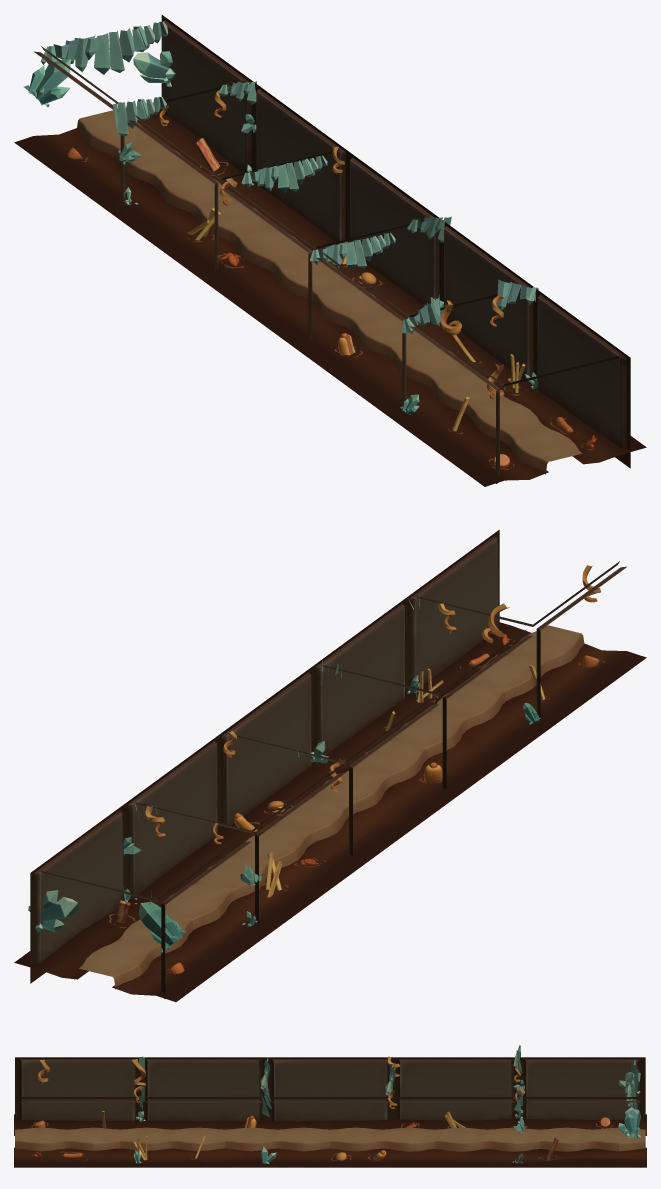
The model's file is stg2_B.gltf.
The picture shows the model from 3 angles, top to bottom: view 1: azimuth 30°, elevation 25°; view 2: azimuth 150°, elevation 25°; view 3: azimuth 270°, elevation 25°; orthographic projection. The views are drawn at different scales.
Parts seen in each view (by area): view 1: stg2_B_GEO; view 2: stg2_B_GEO; view 3: stg2_B_GEO.
Part boxes in pixels (x1=…): stg2_B_GEO: x1=14, y1=15, x2=646, y2=486; stg2_B_GEO: x1=14, y1=529, x2=646, y2=1001; stg2_B_GEO: x1=14, y1=1045, x2=646, y2=1167.
Size of the model in its own units: 4194 by 3148 by 21095.
Materials: 4 (4 with a texture image).
